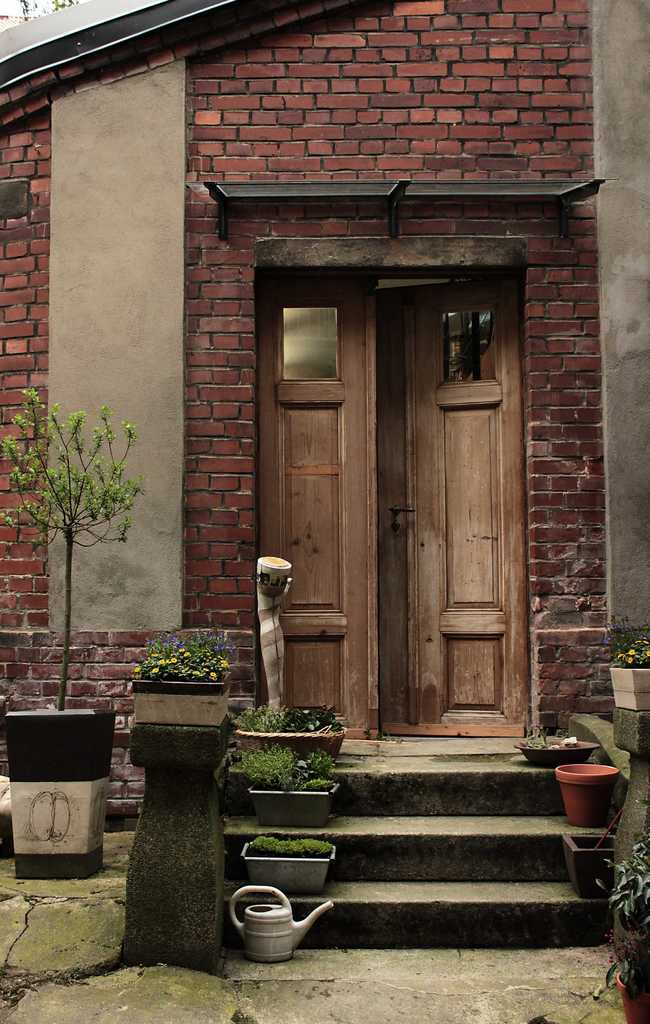door: (378, 313, 522, 725), (268, 302, 366, 718)
handle: (389, 495, 416, 529)
